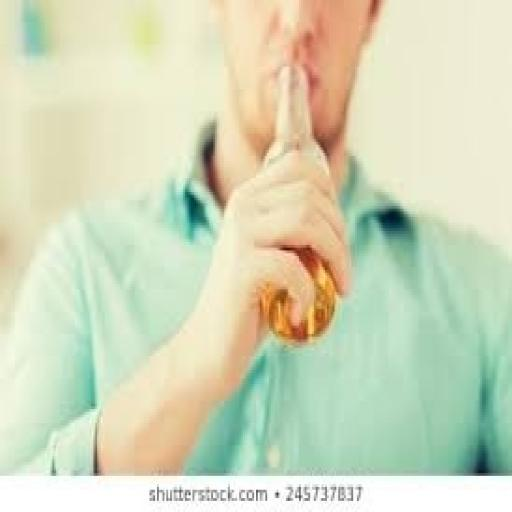drinking: (258, 61, 338, 345)
